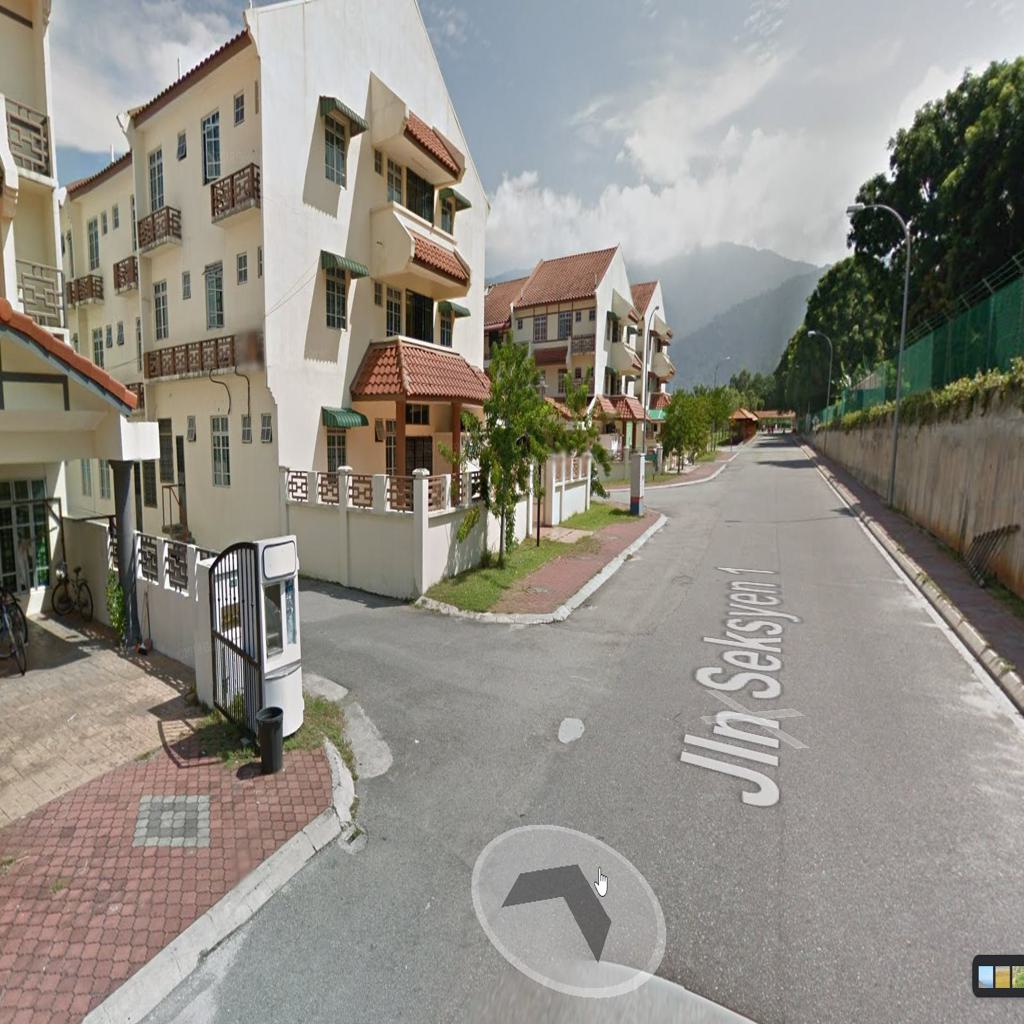Junction: (302, 576, 574, 784), (595, 476, 735, 537)
